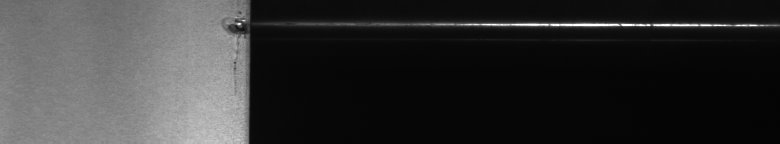hb: (212, 4, 240, 95)
